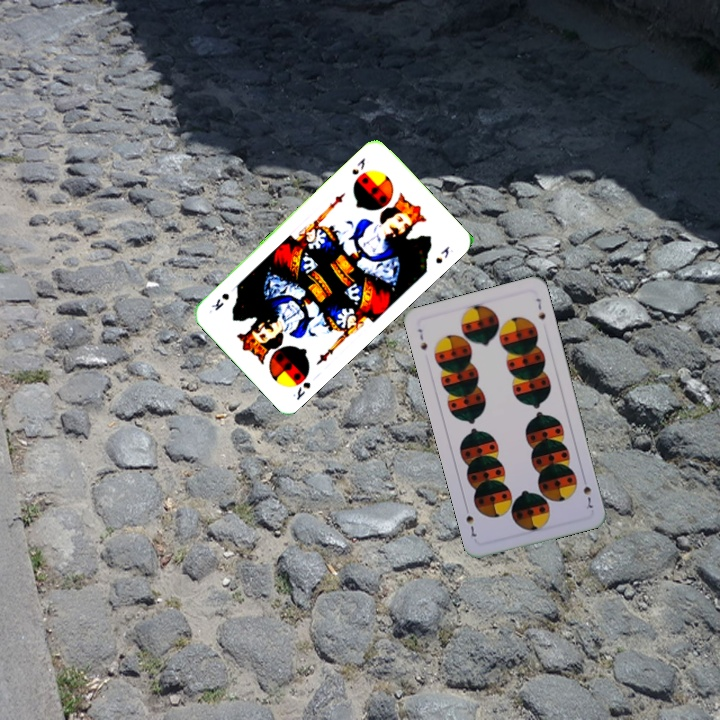S7: (579, 473, 595, 511), (413, 325, 430, 353)
SK: (289, 378, 313, 403), (348, 154, 368, 178)
